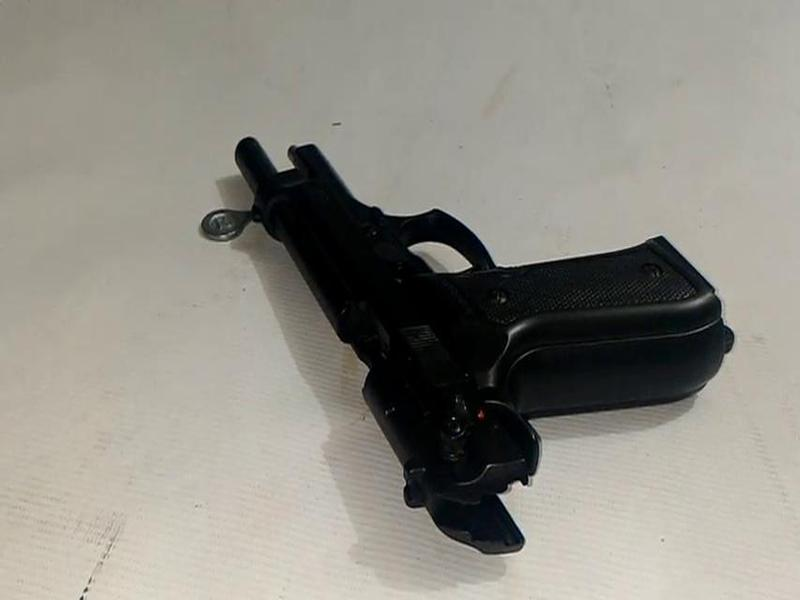Pistola: (208, 108, 752, 554)
